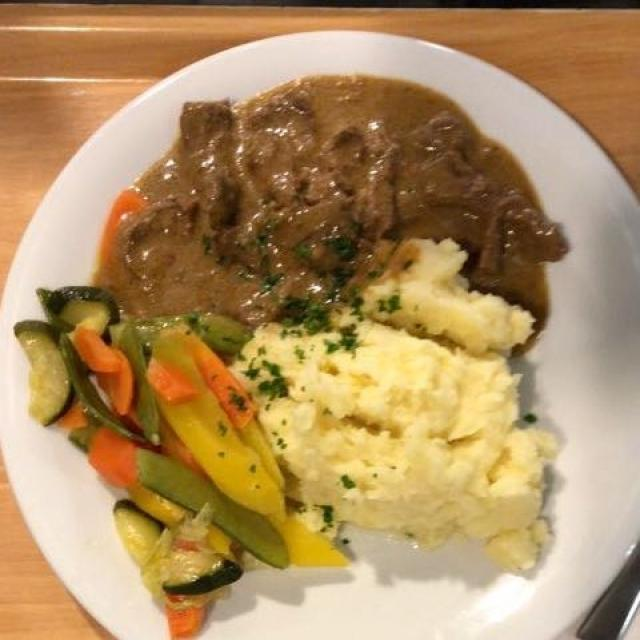beef: (100, 73, 558, 349)
mashed-potatoes: (244, 294, 550, 577)
mixed-vegetables: (27, 291, 323, 613)
